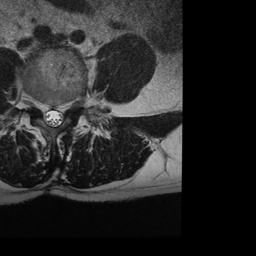CCS_normal: (50, 96, 57, 134)
LFS_normal: (65, 92, 74, 116)
LLS_normal: (57, 95, 66, 128)
RFS_normal: (33, 90, 41, 117)
RLS_normal: (41, 94, 49, 127)
